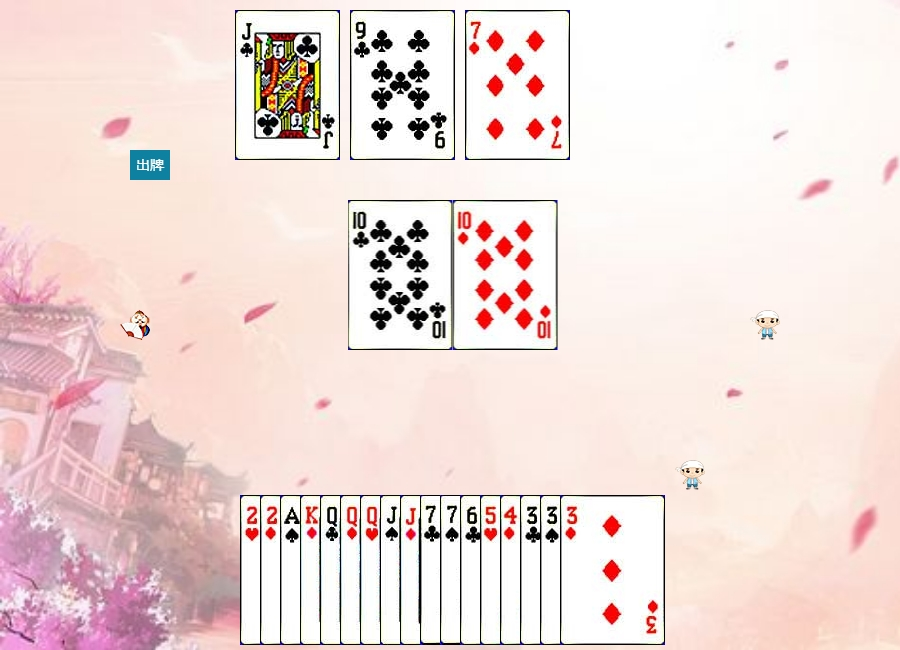10~1: (453, 200, 558, 350)
10~2: (348, 200, 453, 350)
11~1: (400, 495, 505, 645)
11~2: (235, 10, 340, 160)
11~4: (380, 495, 485, 645)
12~1: (340, 495, 445, 645)
12~2: (320, 495, 425, 645)
12~3: (360, 495, 465, 645)
13~1: (300, 495, 405, 645)
14~4: (280, 495, 385, 645)
15~1: (260, 495, 365, 645)
15~3: (240, 495, 345, 645)
3~1: (560, 495, 665, 645)
3~2: (520, 495, 625, 645)
3~4: (540, 495, 645, 645)
4~1: (500, 495, 605, 645)
5~3: (480, 495, 585, 645)
6~2: (460, 495, 565, 645)
7~1: (465, 10, 570, 160)
7~2: (420, 495, 525, 645)
7~4: (440, 495, 545, 645)
9~2: (350, 10, 455, 160)
